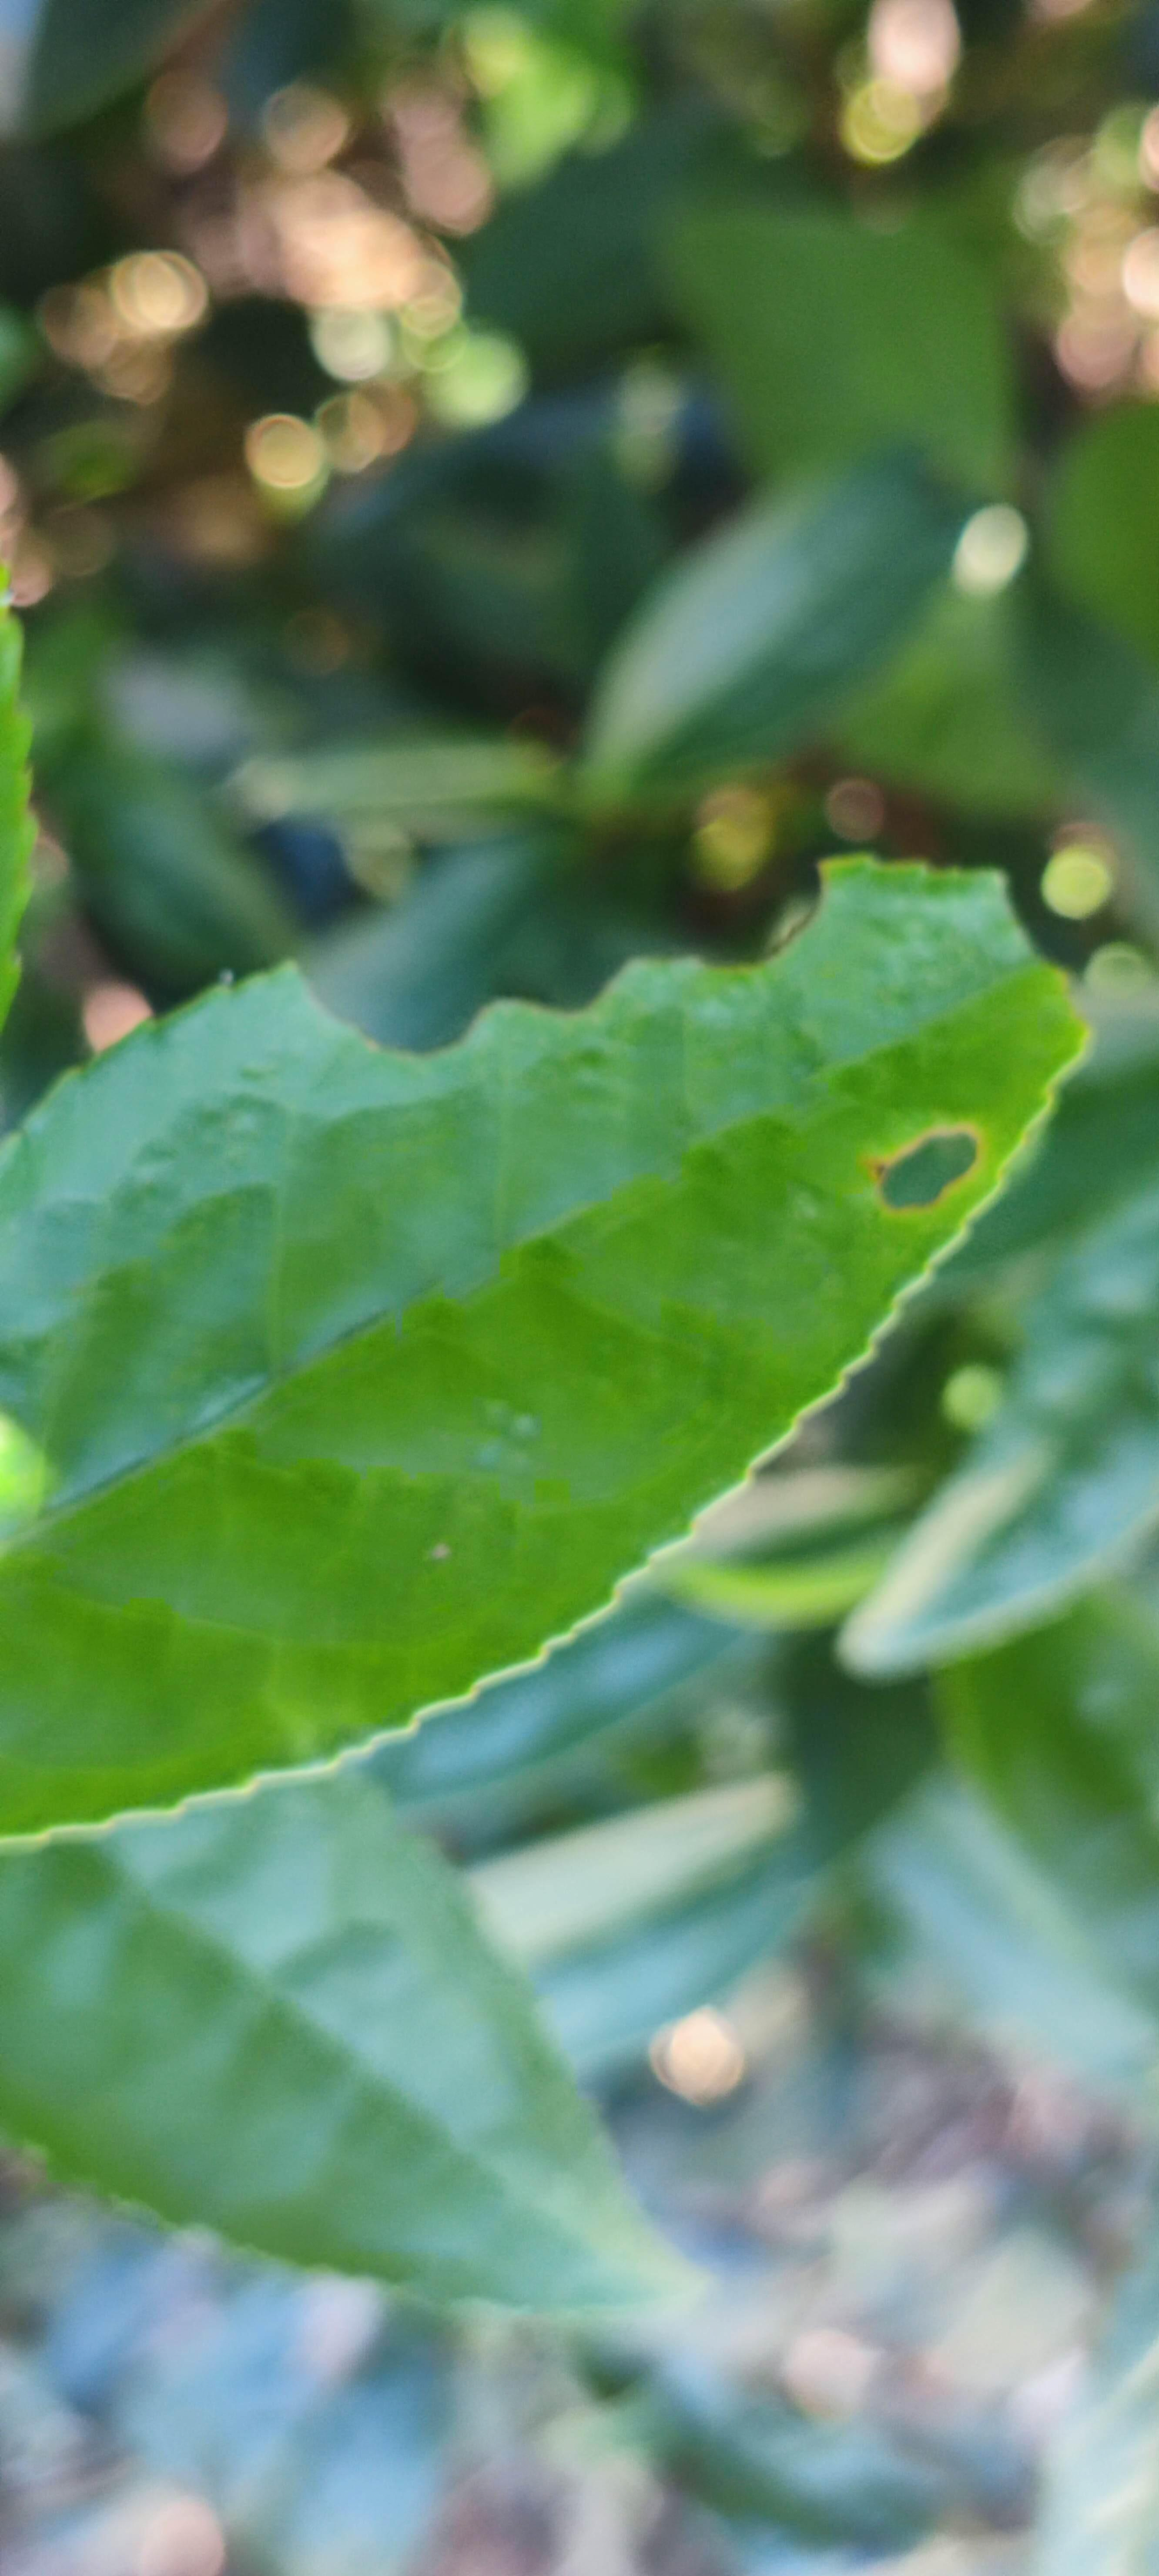chihuo_high: (0, 848, 1102, 1860)
healthy: (8, 1766, 678, 2318)
